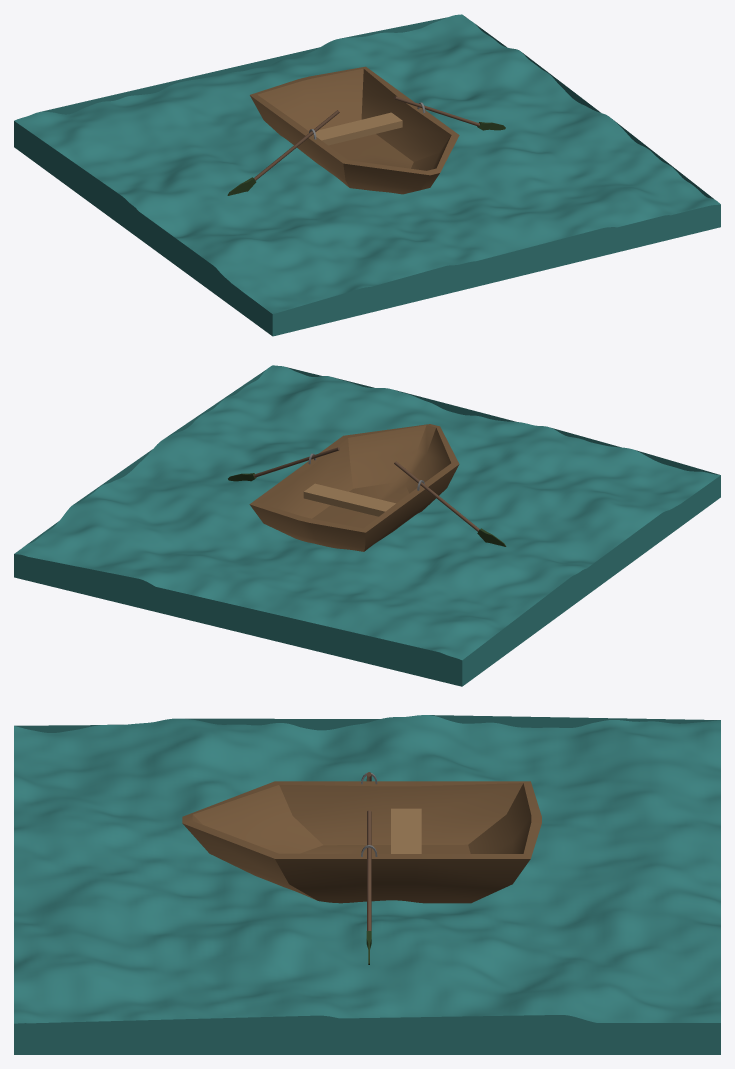
The picture shows the model from 3 angles, top to bottom: view 1: azimuth 30°, elevation 25°; view 2: azimuth 150°, elevation 25°; view 3: azimuth 270°, elevation 25°; orthographic projection. The views are drawn at different scales.
Visible parts, largest first — view 1: Plane, Лодка, Сиденье, Весло.001, Весло; view 2: Plane, Лодка, Сиденье, Весло.001, Весло; view 3: Plane, Лодка, Сиденье, Весло.
Part boxes in pixels (x1,y1,x2,y2): Plane: (14, 14, 720, 336); Лодка: (250, 66, 459, 194); Сиденье: (313, 112, 402, 145); Весло.001: (227, 110, 339, 195); Весло: (393, 96, 505, 130); Plane: (14, 365, 720, 686); Лодка: (249, 424, 459, 551); Сиденье: (303, 483, 395, 516); Весло.001: (394, 461, 506, 546); Весло: (228, 447, 339, 481); Plane: (14, 715, 720, 1054); Лодка: (182, 781, 541, 903); Сиденье: (391, 808, 421, 853); Весло: (366, 810, 371, 964).
Bounding box in the file's own units: 399 × 71.04 × 399.
